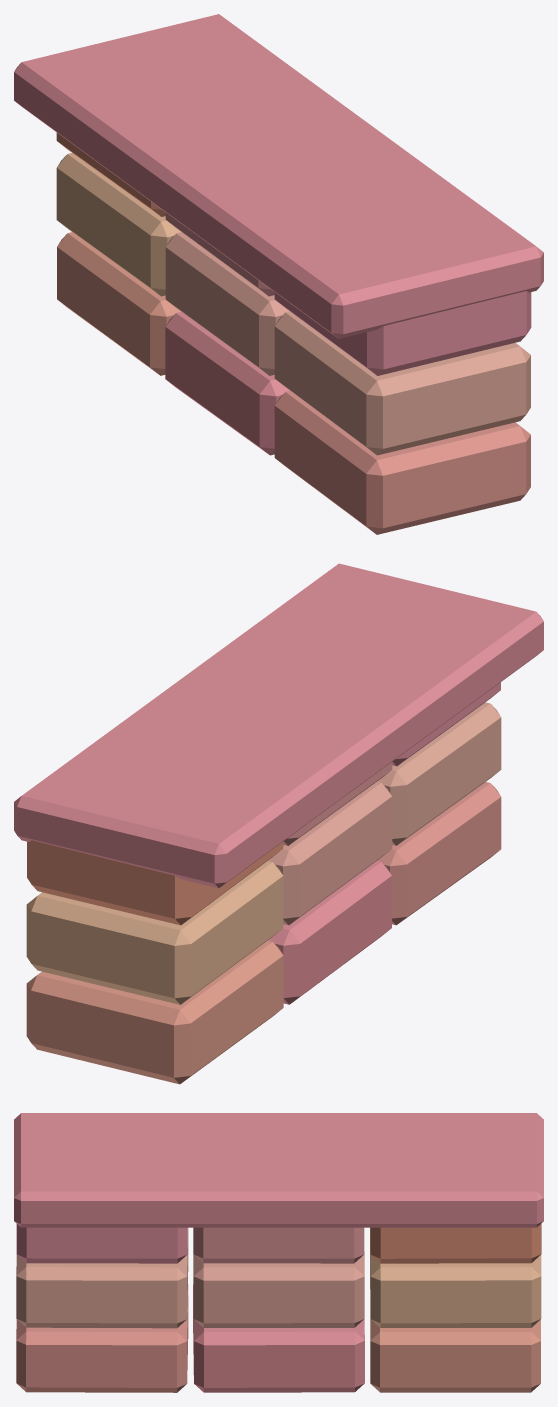
Rendered from WC_RIVER_Bridge_Abutment_A.glb.
3 views of the same model, one above another, from view 1: azimuth 30°, elevation 25°; view 2: azimuth 150°, elevation 25°; view 3: azimuth 270°, elevation 25° (orthographic). The views are drawn at different scales.
Parts seen in each view (by area): view 1: WC_RIVER_Bridge_Abutment_A_RenderMesh; view 2: WC_RIVER_Bridge_Abutment_A_RenderMesh; view 3: WC_RIVER_Bridge_Abutment_A_RenderMesh.
Boxes of the visible parts, box(x1,y1,x2,y2) form: WC_RIVER_Bridge_Abutment_A_RenderMesh: box(14, 14, 543, 534); WC_RIVER_Bridge_Abutment_A_RenderMesh: box(14, 563, 543, 1084); WC_RIVER_Bridge_Abutment_A_RenderMesh: box(14, 1113, 543, 1392).
Bounding box in the file's own units: 0.7 × 0.7975 × 1.86.
